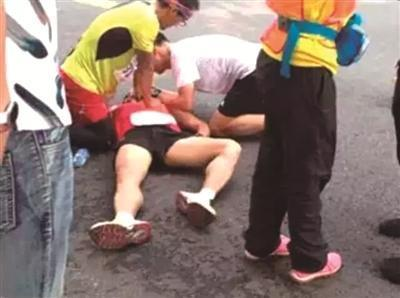Fall-Detected: (83, 68, 241, 255)
